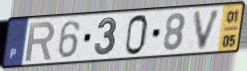0: (123, 13, 150, 57)
3: (93, 16, 118, 58)
6: (57, 19, 82, 60)
8: (162, 12, 187, 53)
R: (23, 20, 57, 63)
V: (192, 7, 224, 51)
